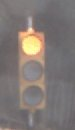Red: (12, 28, 53, 122)
